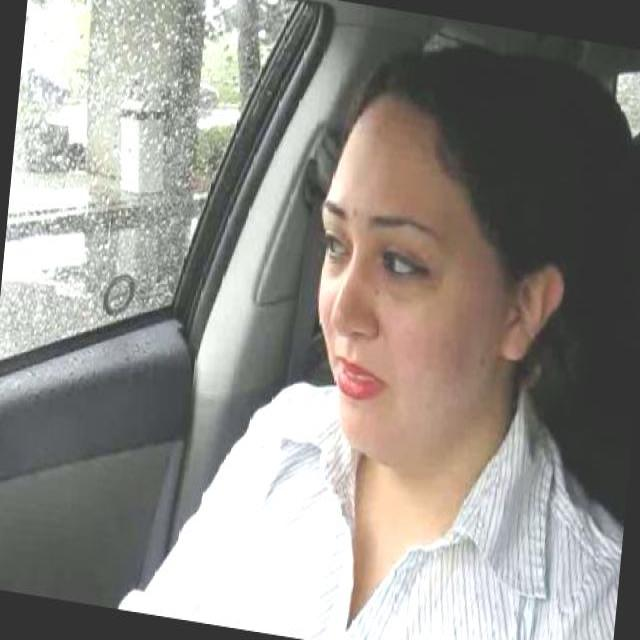no-seatbelt: (188, 435, 612, 638)
